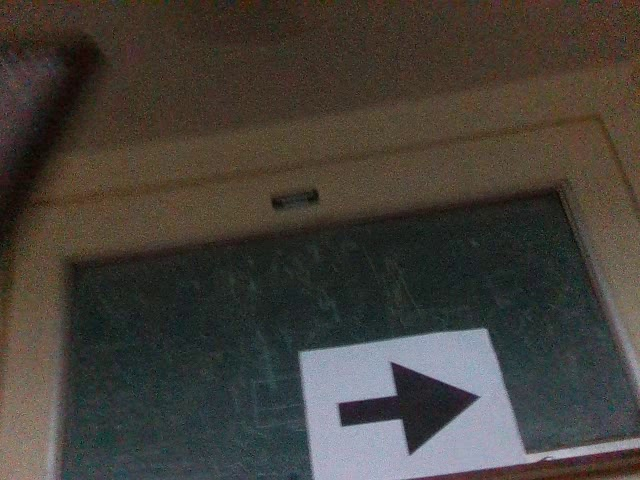Right: (333, 358, 482, 462)
